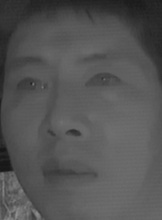eye: (80, 70, 126, 94), (9, 74, 52, 96)
mouth: (39, 154, 99, 192)
